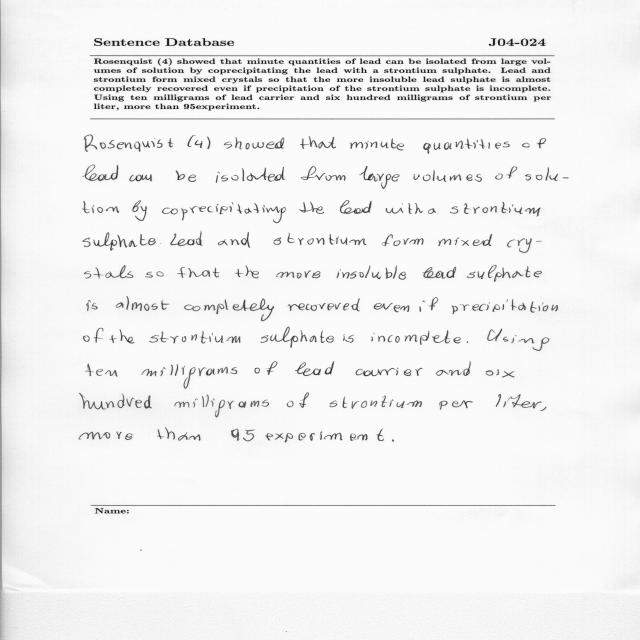word: (162, 202, 286, 223), (162, 202, 286, 223), (141, 364, 237, 389), (141, 364, 237, 389), (174, 395, 269, 418), (174, 395, 269, 418), (184, 299, 274, 322), (184, 299, 274, 322), (265, 429, 384, 443), (265, 429, 384, 443), (452, 300, 558, 315), (452, 300, 558, 315), (260, 327, 334, 348), (260, 327, 334, 348), (450, 202, 541, 217), (450, 202, 541, 217), (488, 329, 550, 351), (488, 329, 550, 351), (371, 330, 461, 345), (371, 330, 461, 345), (84, 135, 163, 152), (84, 135, 163, 152), (83, 233, 156, 251), (83, 233, 156, 251), (423, 139, 510, 154), (423, 139, 510, 154), (467, 265, 542, 282), (467, 265, 542, 282), (329, 396, 422, 409), (329, 396, 422, 409), (79, 393, 152, 409), (79, 393, 152, 409), (273, 233, 366, 245), (273, 233, 366, 245), (216, 167, 285, 183), (216, 167, 285, 183), (150, 331, 241, 343), (150, 331, 241, 343), (337, 265, 406, 280), (337, 265, 406, 280), (288, 299, 360, 312), (288, 299, 360, 312), (359, 166, 399, 189), (359, 166, 399, 189), (414, 170, 482, 182), (414, 170, 482, 182), (116, 296, 170, 311), (116, 296, 170, 311), (224, 137, 284, 149), (224, 137, 284, 149), (301, 166, 346, 181), (301, 166, 346, 181), (350, 139, 404, 151), (438, 234, 492, 246), (350, 139, 404, 151), (438, 234, 492, 246), (85, 266, 134, 279), (85, 266, 134, 279), (496, 394, 541, 408), (496, 394, 541, 408), (525, 167, 569, 181), (525, 167, 569, 181), (83, 165, 118, 181), (83, 165, 118, 181), (158, 428, 201, 441), (158, 428, 201, 441), (295, 362, 334, 376), (295, 362, 334, 376), (356, 368, 423, 376), (356, 368, 423, 376), (507, 238, 542, 253), (436, 361, 471, 376), (507, 238, 542, 253), (436, 361, 471, 376), (218, 232, 250, 248), (218, 232, 250, 248), (170, 231, 203, 246), (170, 231, 203, 246), (382, 234, 423, 246), (382, 234, 423, 246), (80, 431, 133, 440), (80, 431, 133, 440), (177, 267, 220, 278), (177, 267, 220, 278), (300, 136, 336, 149), (300, 136, 336, 149), (339, 200, 372, 214), (339, 200, 372, 214), (83, 201, 120, 213), (83, 201, 120, 213), (86, 364, 118, 377), (86, 364, 118, 377), (423, 267, 457, 279), (423, 267, 457, 279), (386, 203, 423, 214), (386, 203, 423, 214), (110, 329, 135, 344), (110, 329, 135, 344), (276, 271, 320, 279), (276, 271, 320, 279), (439, 400, 473, 410), (439, 400, 473, 410), (287, 393, 309, 408), (287, 393, 309, 408), (255, 361, 278, 375), (255, 361, 278, 375), (132, 200, 147, 221), (374, 303, 409, 312), (132, 200, 147, 221), (374, 303, 409, 312), (299, 202, 324, 214), (299, 202, 324, 214), (235, 266, 259, 278), (231, 429, 255, 441), (235, 266, 259, 278), (231, 429, 255, 441), (496, 167, 518, 180), (496, 167, 518, 180), (84, 328, 103, 343), (84, 328, 103, 343), (420, 297, 438, 312), (420, 297, 438, 312), (522, 138, 546, 148), (176, 170, 196, 182), (522, 138, 546, 148), (176, 170, 196, 182), (486, 370, 515, 378), (486, 370, 515, 378), (188, 135, 203, 148), (188, 135, 203, 148), (129, 175, 152, 182), (129, 175, 152, 182), (87, 300, 98, 311), (87, 300, 98, 311), (145, 272, 164, 278), (145, 272, 164, 278), (343, 334, 354, 343), (343, 334, 354, 343), (428, 208, 436, 214), (428, 208, 436, 214), (168, 138, 173, 147), (168, 138, 173, 147), (207, 136, 210, 149), (207, 136, 210, 149), (540, 407, 546, 411), (540, 407, 546, 411), (392, 439, 394, 442), (392, 439, 394, 442), (467, 341, 468, 343), (467, 341, 468, 343), (160, 243, 161, 244), (160, 243, 161, 244)
